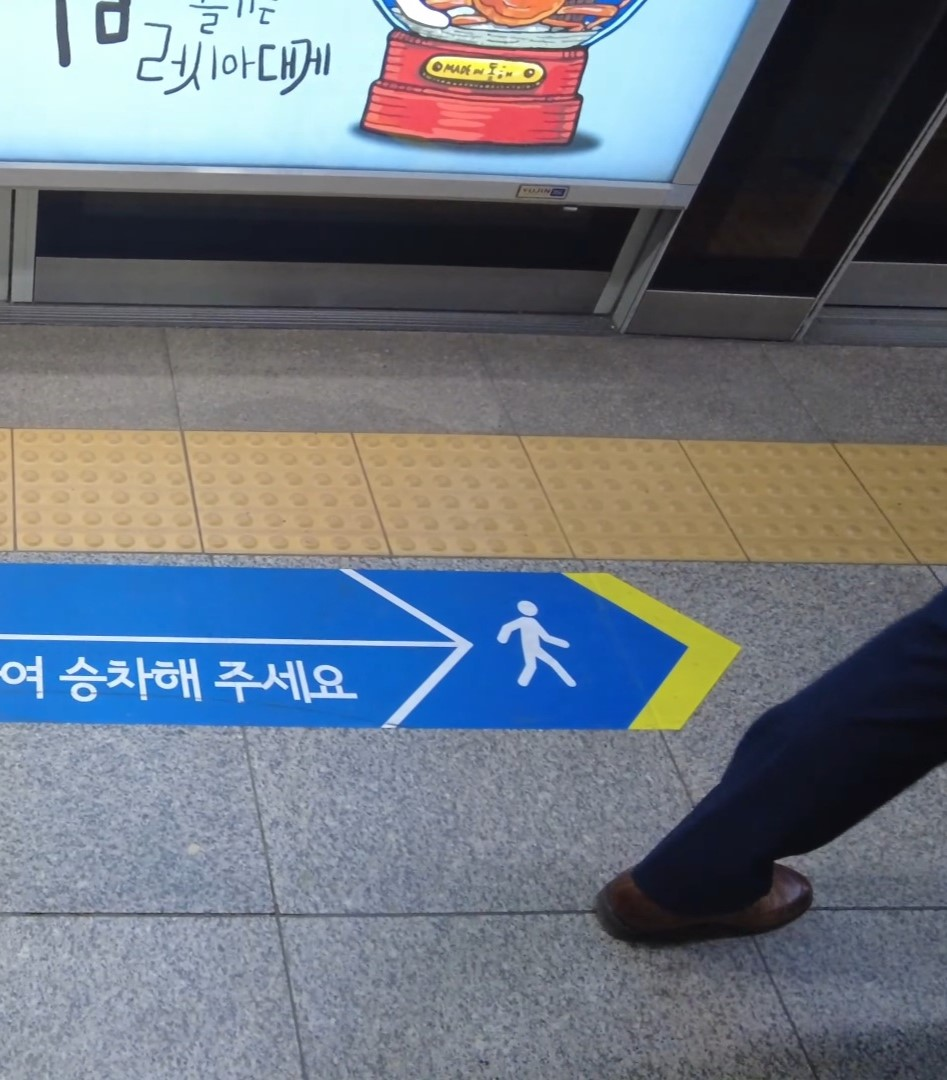warningBlock: (192, 435, 405, 563), (529, 418, 726, 549), (368, 432, 559, 567), (699, 441, 893, 570), (18, 435, 184, 549), (854, 437, 947, 567)
